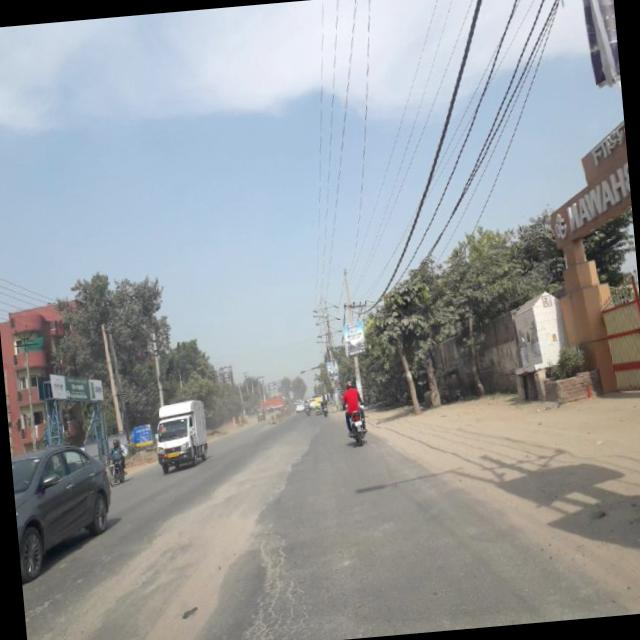crack: (231, 530, 307, 640)
pothole: (179, 529, 264, 640), (245, 439, 321, 528)
